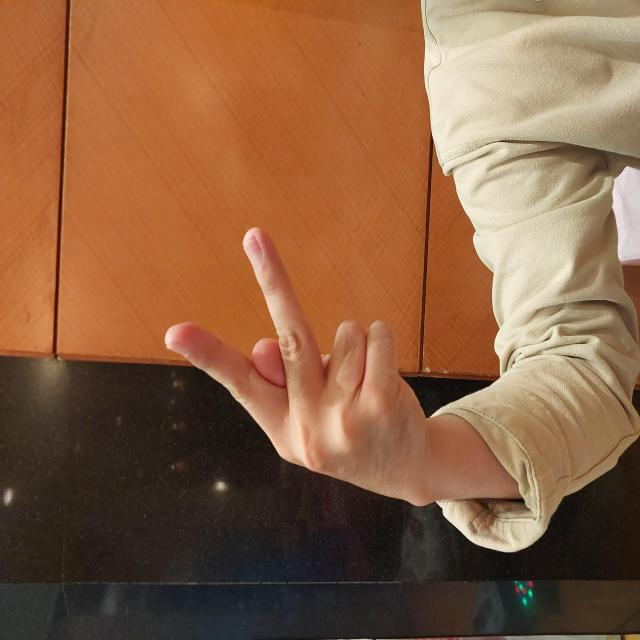K: (132, 162, 416, 427)
